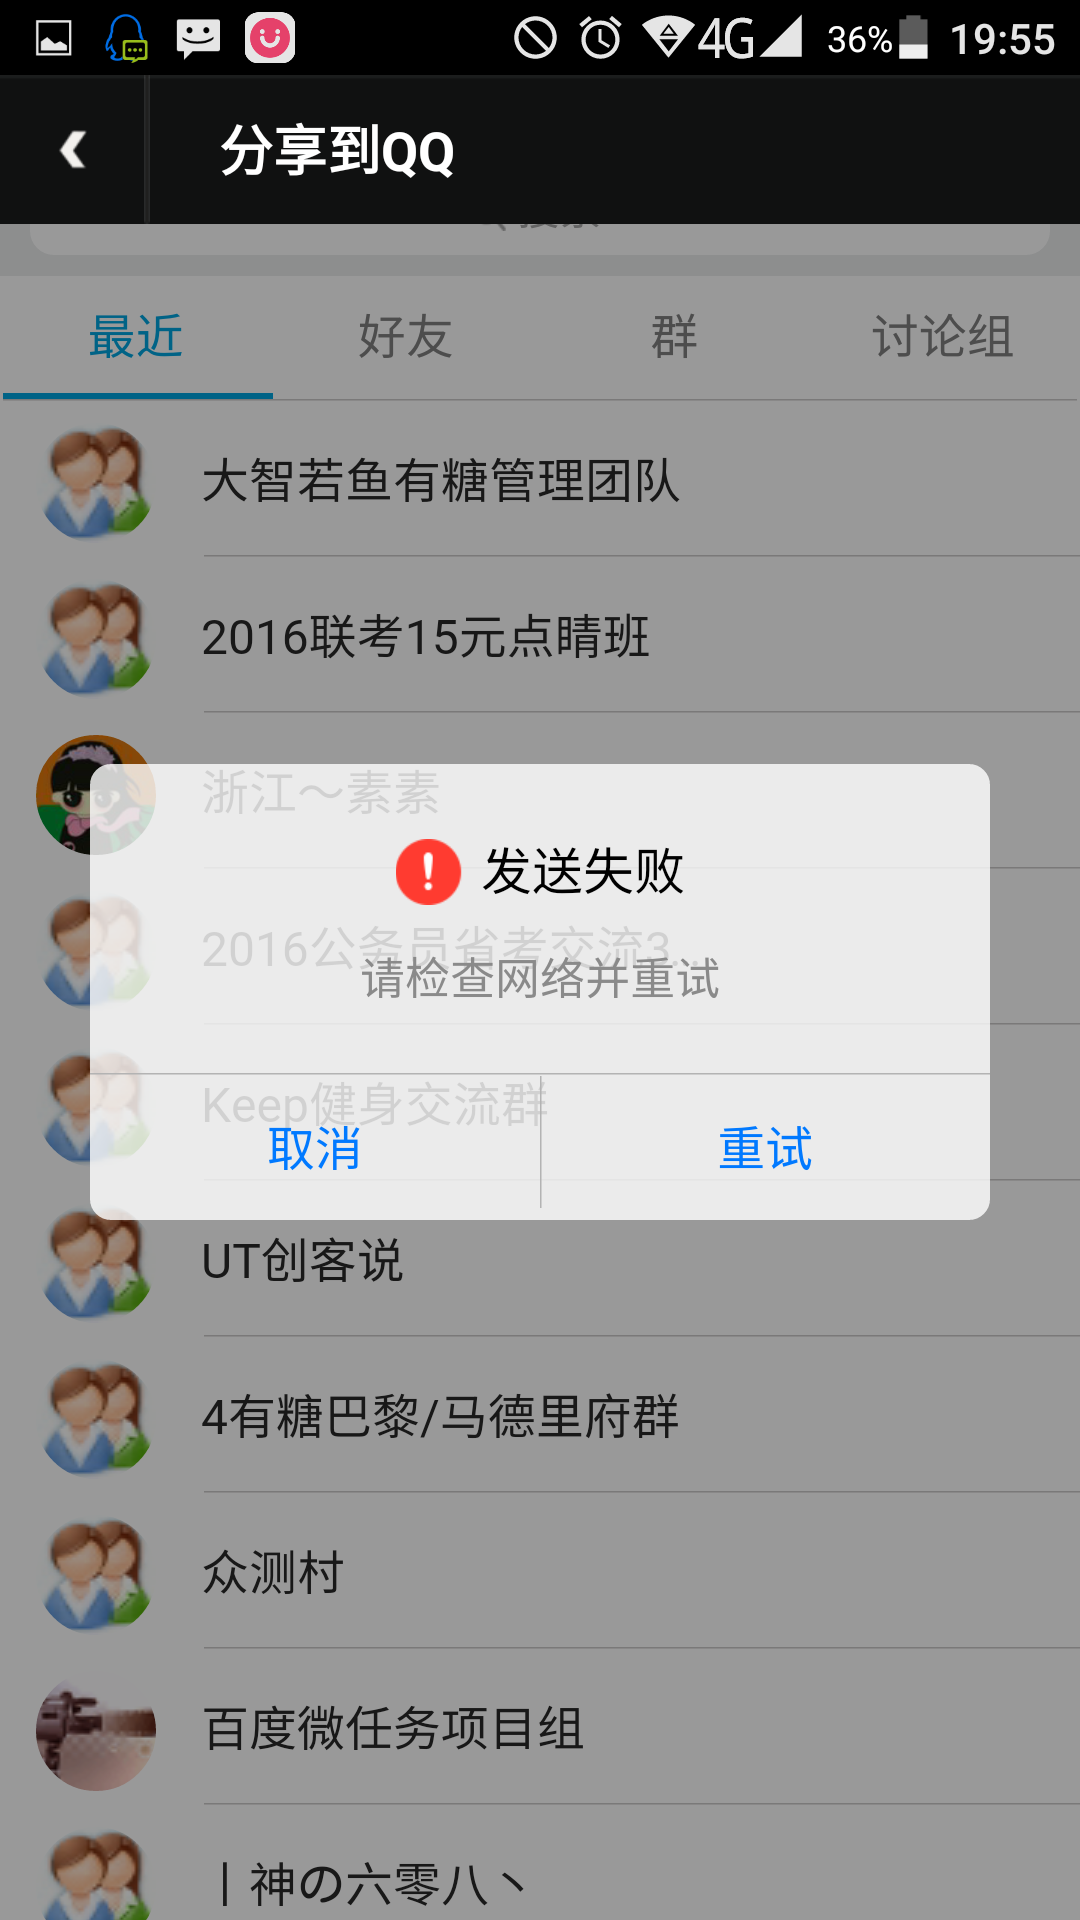alert: (82, 761, 996, 1241)
